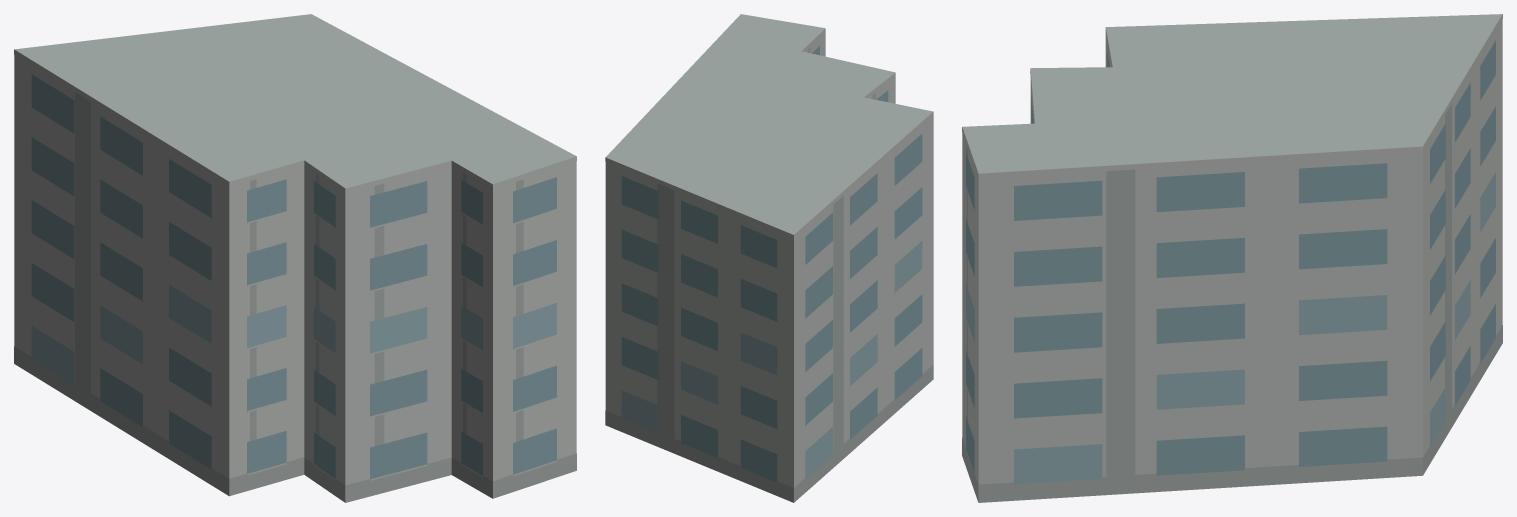
Rendered from survey-upis-32930531.glb.
The picture shows the model from 3 angles, left to right: view 1: azimuth 30°, elevation 25°; view 2: azimuth 150°, elevation 25°; view 3: azimuth 270°, elevation 25°; orthographic projection. The views are drawn at different scales.
Parts seen in each view (by area): view 1: survey-upis-32930531.tmp; view 2: survey-upis-32930531.tmp; view 3: survey-upis-32930531.tmp.
Part boxes in pixels (<box>): survey-upis-32930531.tmp: <box>14,14,576,502</box>; survey-upis-32930531.tmp: <box>605,14,933,502</box>; survey-upis-32930531.tmp: <box>962,14,1502,502</box>.
Bounding box in the file's own units: 15.56 × 14.95 × 22.25.
